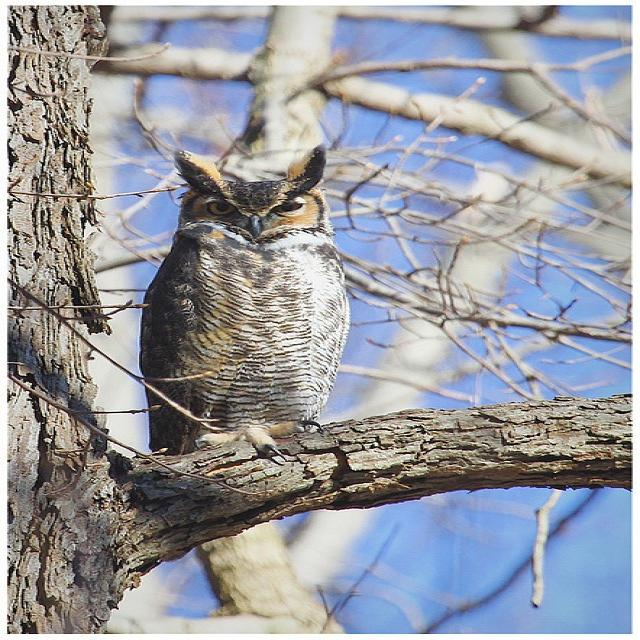bird: (140, 148, 352, 482)
